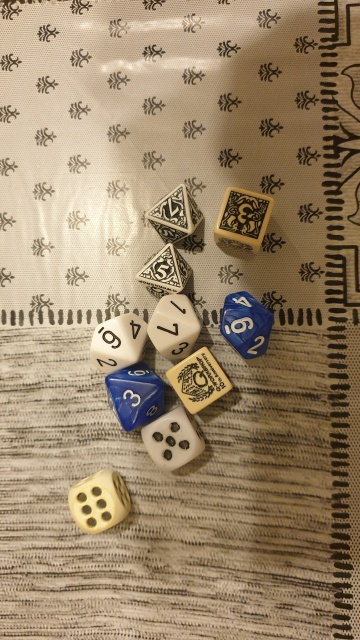d10-3: (95, 361, 174, 432)
d10-6: (215, 287, 278, 367), (80, 306, 144, 373)
d10-7: (139, 289, 204, 361)
d6-5: (135, 406, 207, 473)
d6-6: (61, 464, 135, 537)
d6p-3: (213, 185, 277, 253)
d6p-6: (160, 348, 234, 414)
d8p-5: (135, 238, 194, 304)
d8p-7: (145, 183, 205, 242)
